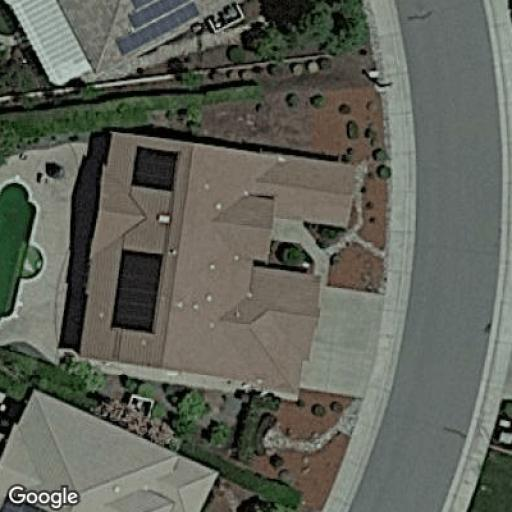solar-panel: (108, 0, 199, 56), (109, 246, 166, 334), (130, 143, 180, 193)
